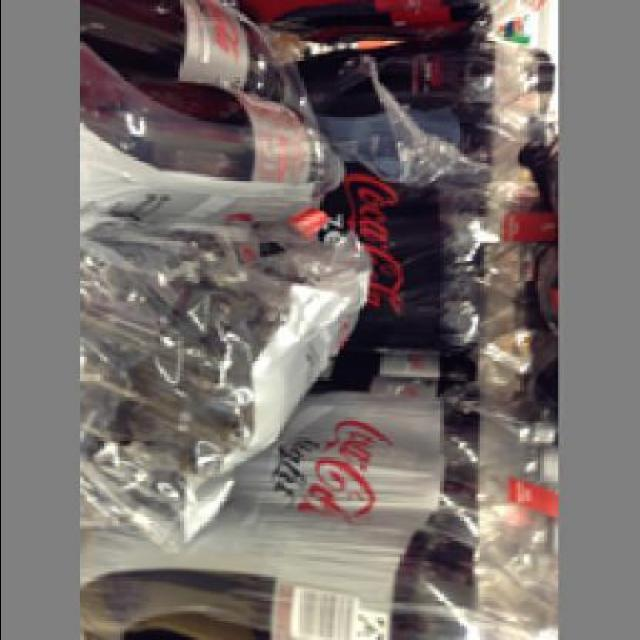Coke: (83, 77, 354, 217), (89, 1, 311, 97), (323, 36, 557, 112), (326, 114, 546, 194), (348, 268, 544, 348)
